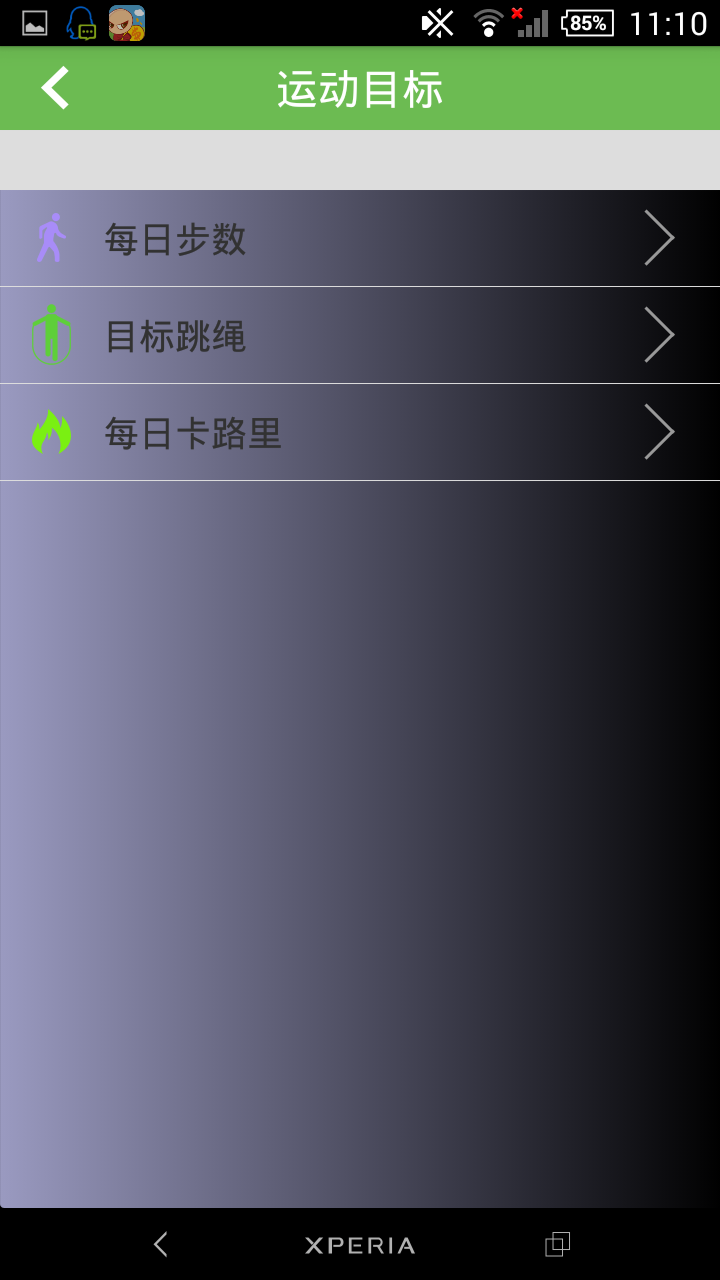imgbutton: (624, 206, 690, 268)
textview: (2, 187, 720, 490)
